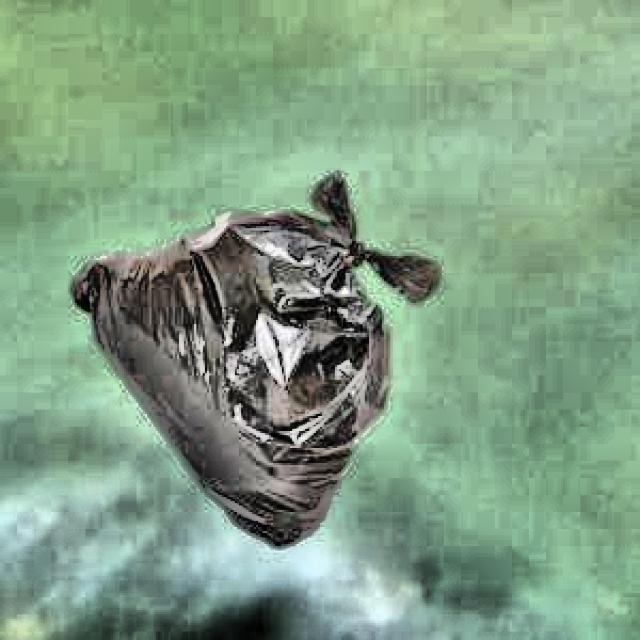Trashbag: (64, 169, 447, 551)
